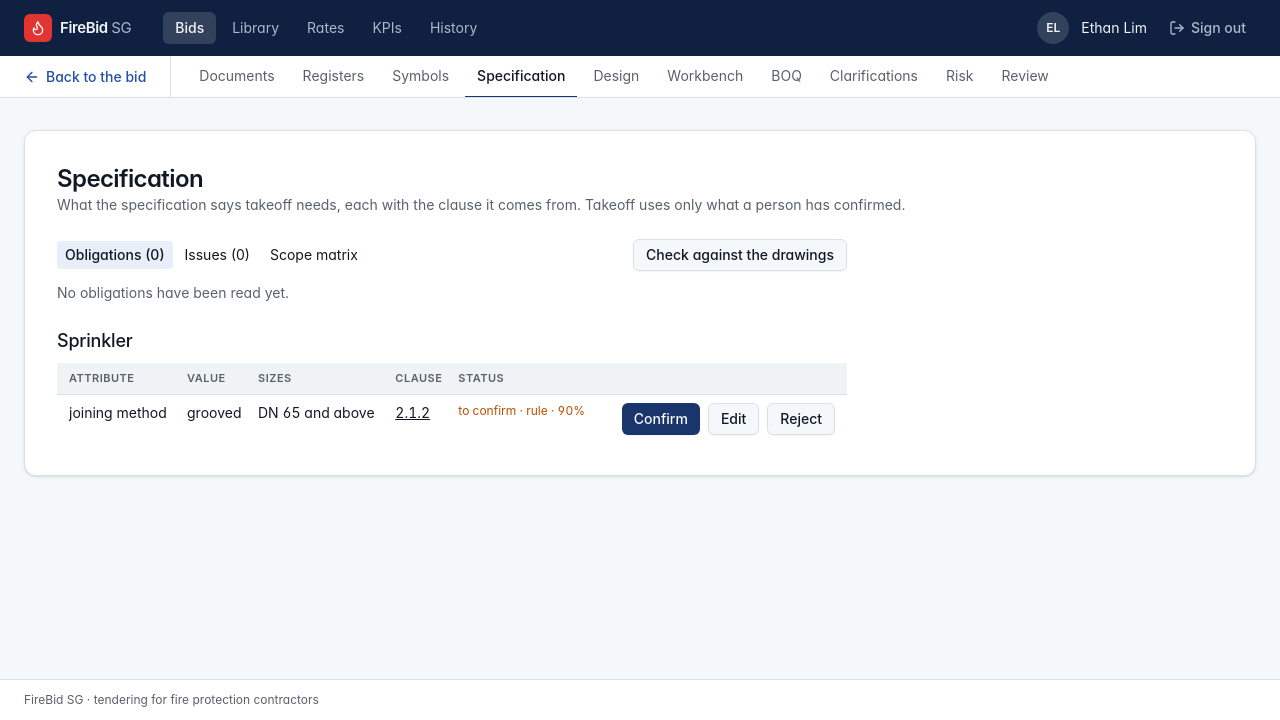
the specification page › opens the cited clause with the words it rests on marked
What coordinates should you click on to do the following:
click the button "2.1.2"
I would click on:
 (413, 413)
Its box is [395, 403, 430, 423].
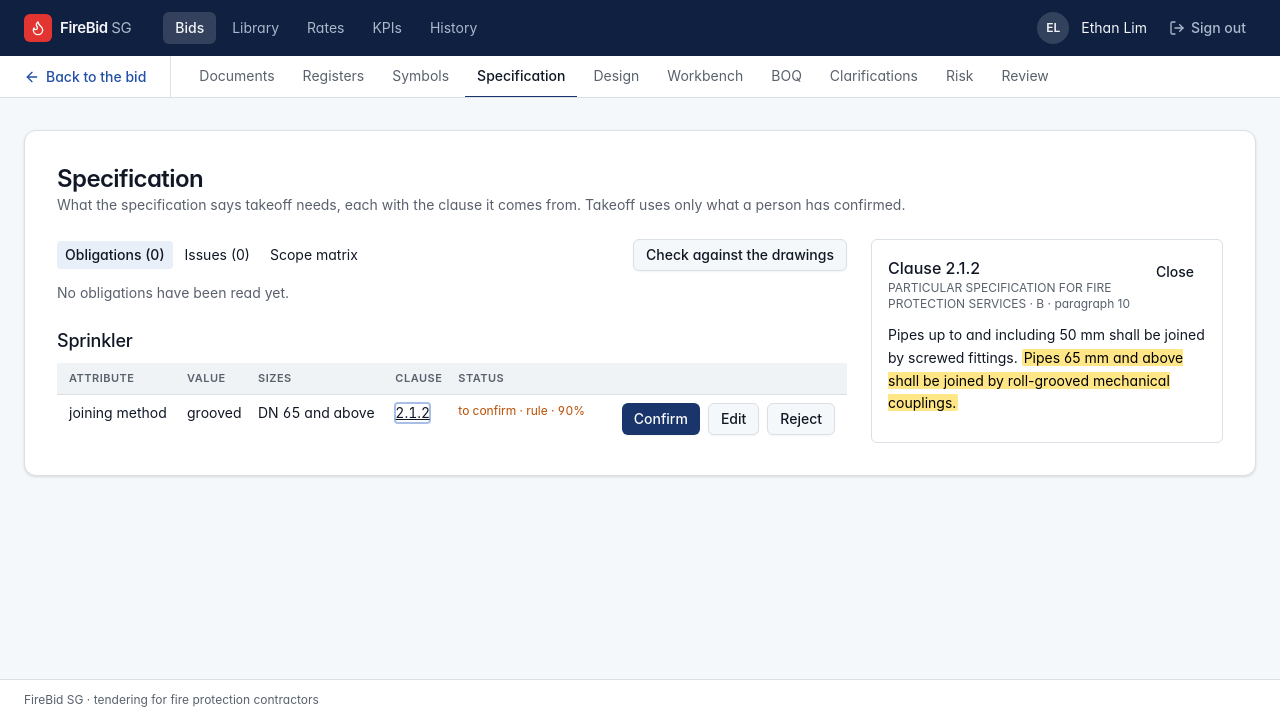
Expected: the text "DN 65 and above" is shown, [258, 394, 395, 443]
Expected: the text "paragraph 10" is shown, [1044, 296, 1130, 311]
Expected: the text "Pipes 65 mm and above shall be joined by roll-grooved mechanical couplings." is shown, [888, 349, 1183, 411]
